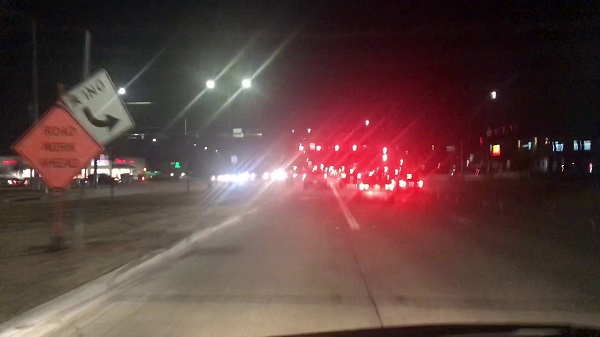car: (351, 171, 396, 203), (399, 172, 423, 188), (303, 170, 327, 186)
